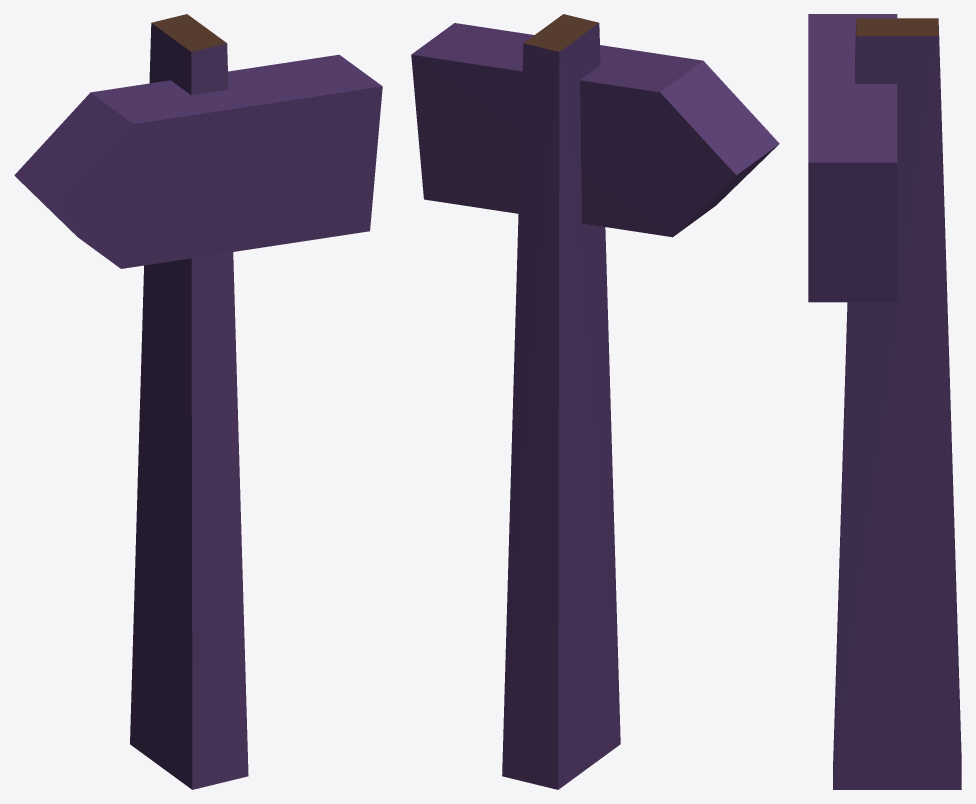
The model's file is dock-sign-lilac.glb.
3 views of the same model, side by side, from view 1: azimuth 30°, elevation 25°; view 2: azimuth 150°, elevation 25°; view 3: azimuth 270°, elevation 25° (orthographic). The views are drawn at different scales.
Visible parts, largest first — view 1: dock-sign-lilac; view 2: dock-sign-lilac; view 3: dock-sign-lilac.
Part boxes in pixels (<box>): dock-sign-lilac: <box>14,14,382,789</box>; dock-sign-lilac: <box>411,14,779,789</box>; dock-sign-lilac: <box>808,14,961,789</box>.
Bounding box in the file's own units: 0.73 × 1.56 × 0.29.
